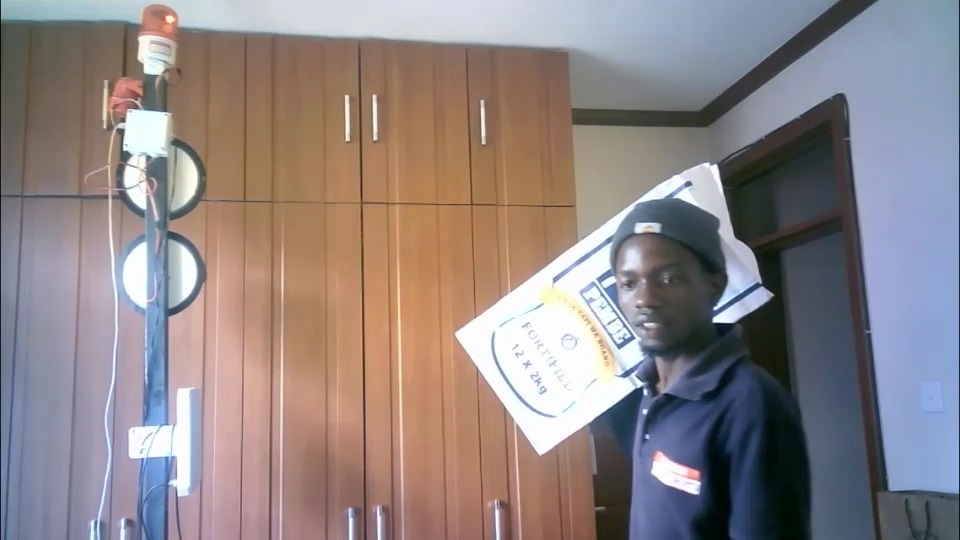wheat_flour_blue_label: (457, 167, 770, 453)
